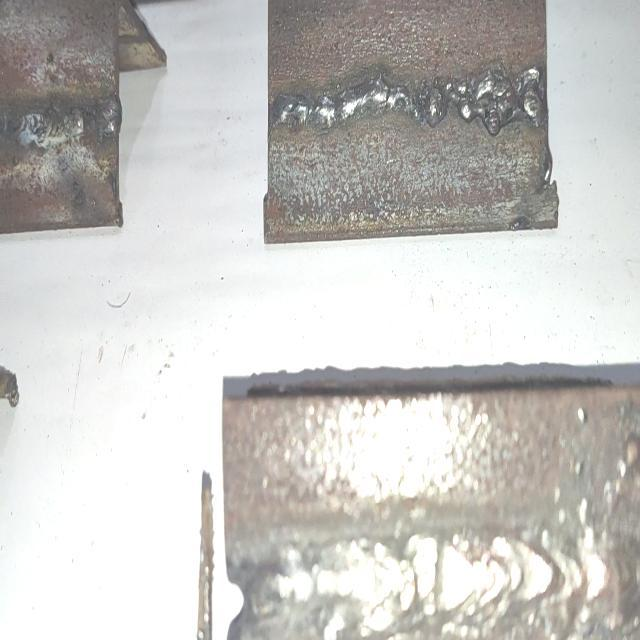Defect: (455, 56, 545, 136), (0, 98, 117, 150)
Welding Line: (233, 530, 640, 626), (276, 71, 541, 129)
Workpiece: (220, 391, 640, 640), (270, 0, 550, 240), (0, 0, 124, 228)
